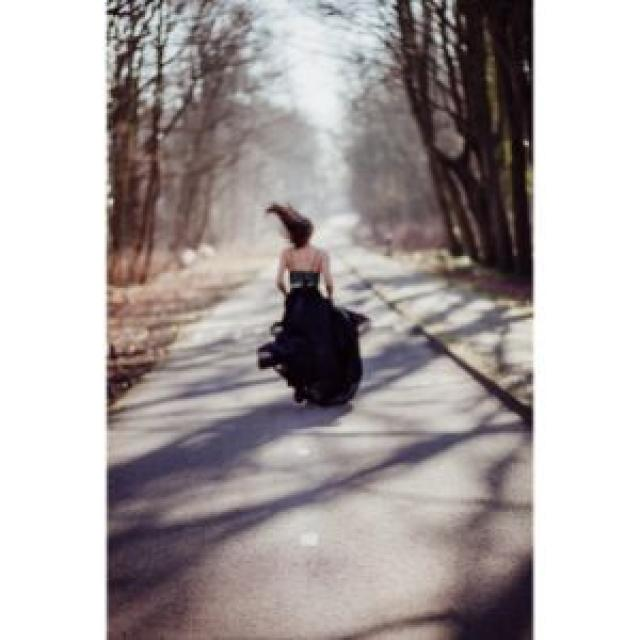nonfall: (255, 195, 357, 410)
